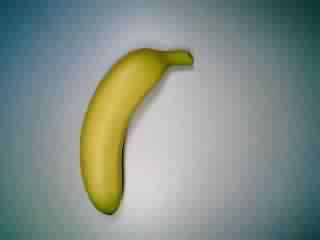banana: (76, 46, 198, 216)
